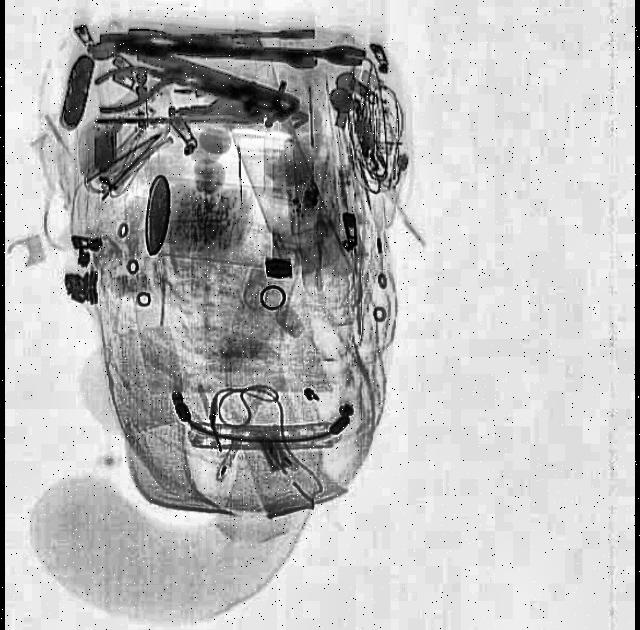Pliers: (92, 48, 202, 120)
